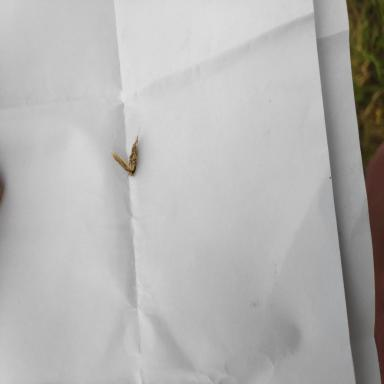pbw: (110, 136, 138, 176)
